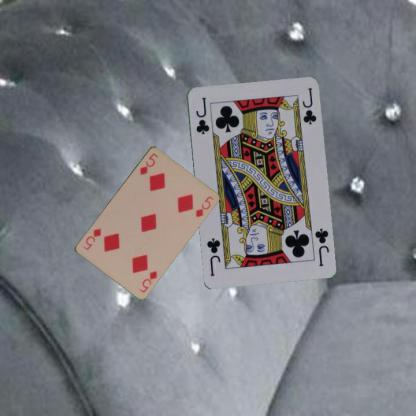5d: (137, 150, 159, 176), (136, 268, 158, 294)
Jc: (312, 225, 330, 268), (193, 94, 210, 135)
